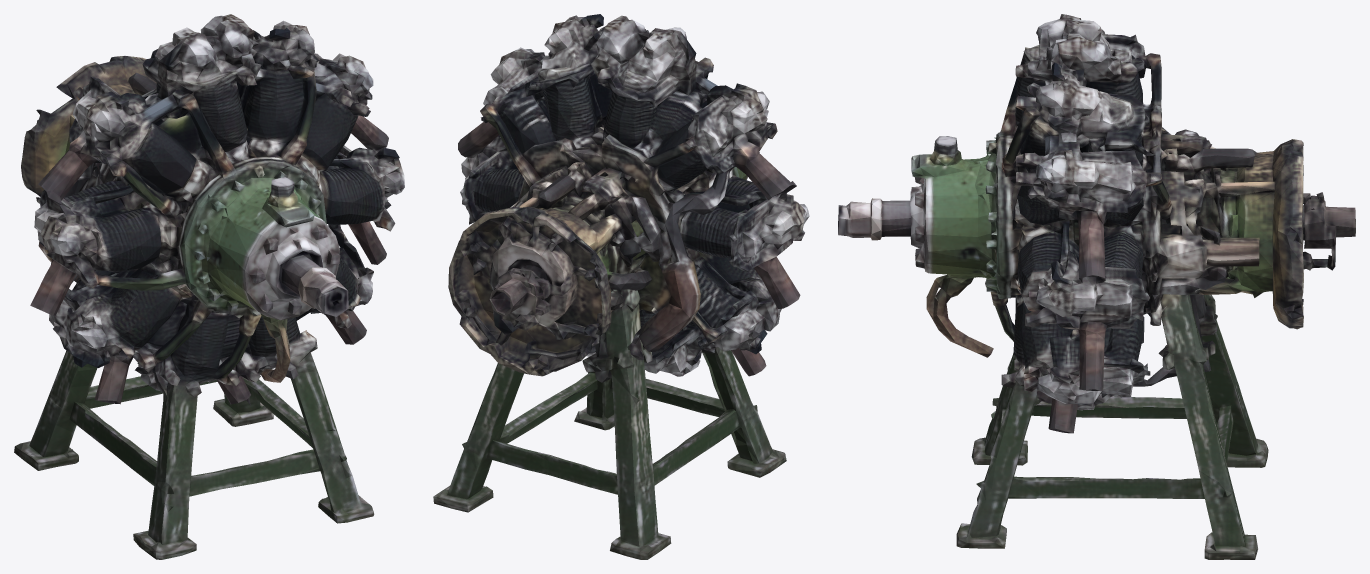
The model's file is engine_radial.glb.
3 renders of one model, left to right at view 1: azimuth 30°, elevation 25°; view 2: azimuth 150°, elevation 25°; view 3: azimuth 270°, elevation 25°, orthographic. The views are drawn at different scales.
Visible parts, largest first — view 1: geometry_0; view 2: geometry_0; view 3: geometry_0.
Boxes of the visible parts, <box> form: geometry_0: <box>14,14,404,559</box>; geometry_0: <box>433,14,809,559</box>; geometry_0: <box>838,14,1355,559</box>.
Size of the model in its own units: 0.7921 by 1 by 1.
1 material, 1 textured.
